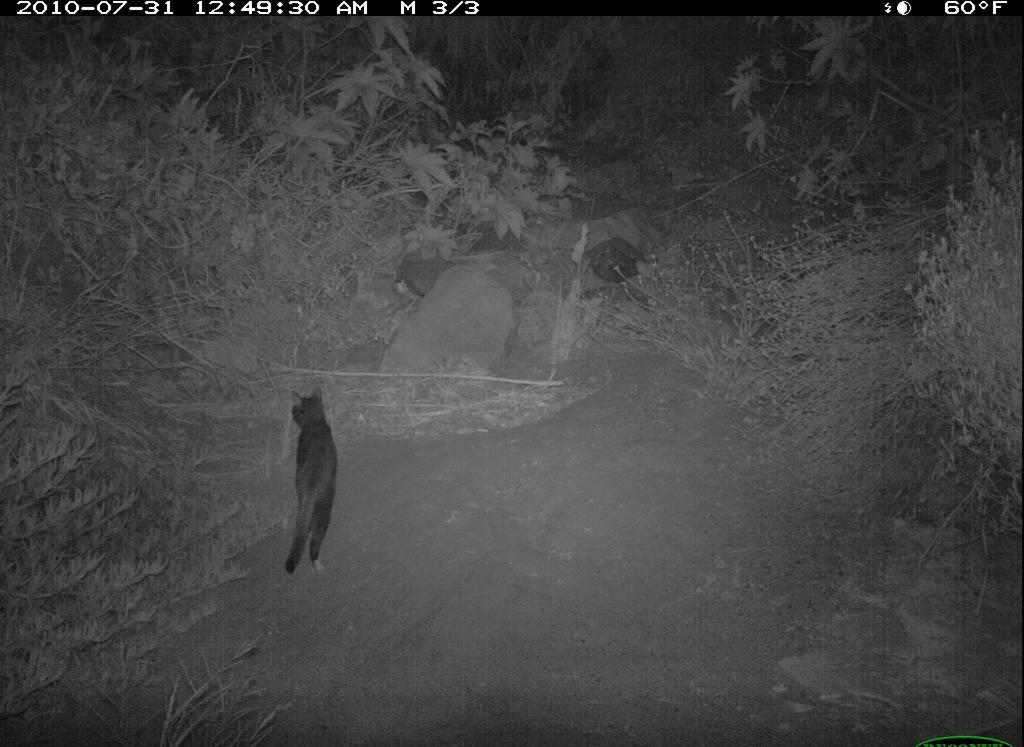cat: (264, 370, 354, 574)
